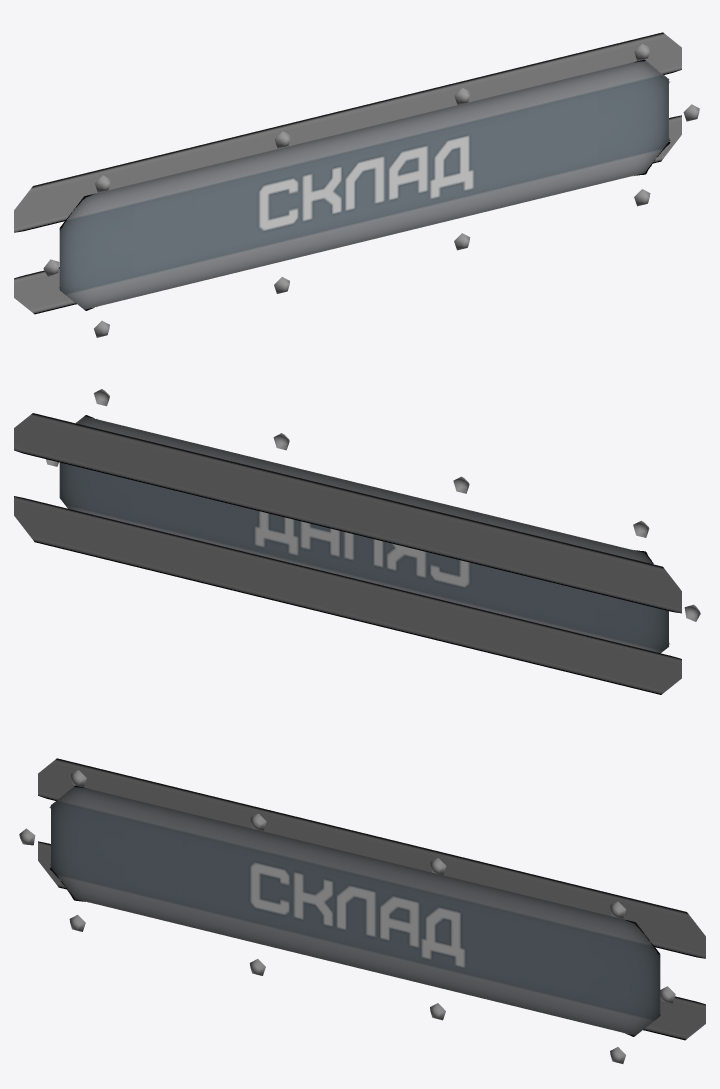
Rendered from obj_decor_sign_warehouse.fbx.
3 views of the same model, one above another, from view 1: azimuth 30°, elevation 25°; view 2: azimuth 150°, elevation 25°; view 3: azimuth 330°, elevation 25° (orthographic).
Visible parts, largest first — view 1: obj_decor_sign_warehouse; view 2: obj_decor_sign_warehouse; view 3: obj_decor_sign_warehouse.
Part boxes in pixels (bbox=[...]): obj_decor_sign_warehouse: bbox=[14, 32, 699, 337]; obj_decor_sign_warehouse: bbox=[14, 389, 700, 694]; obj_decor_sign_warehouse: bbox=[19, 758, 705, 1063].
Bounding box in the file's own units: 8 × 2 × 0.5823.
